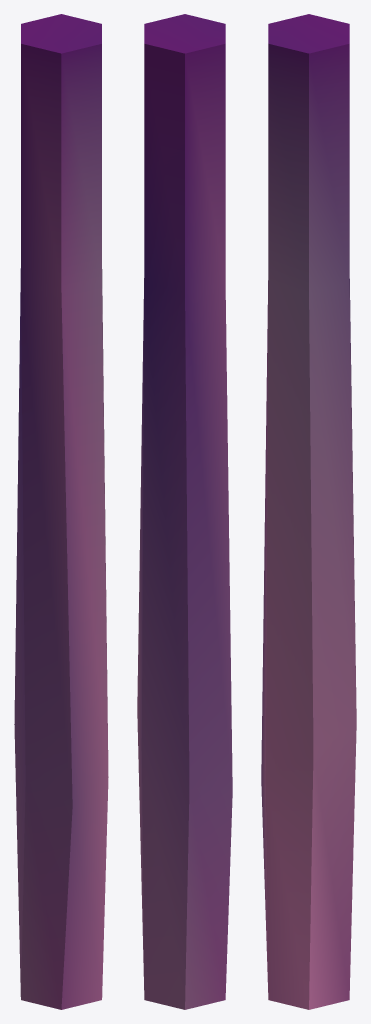
The model's file is variant 2.fbx.
3 views of the same model, side by side, from view 1: azimuth 90°, elevation 25°; view 2: azimuth 150°, elevation 25°; view 3: azimuth 330°, elevation 25° (orthographic).
Parts seen in each view (by area): view 1: Cube.001; view 2: Cube.001; view 3: Cube.001.
Boxes of the visible parts, left/top/right/bottom form: Cube.001: left=14, top=14, right=108, bottom=1009; Cube.001: left=137, top=14, right=232, bottom=1009; Cube.001: left=261, top=14, right=356, bottom=1009.
Bounding box in the file's own units: 406 × 4400 × 392.
